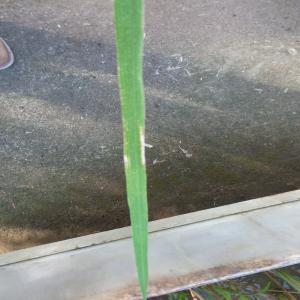Bacterial_Blight: (114, 1, 153, 281)
